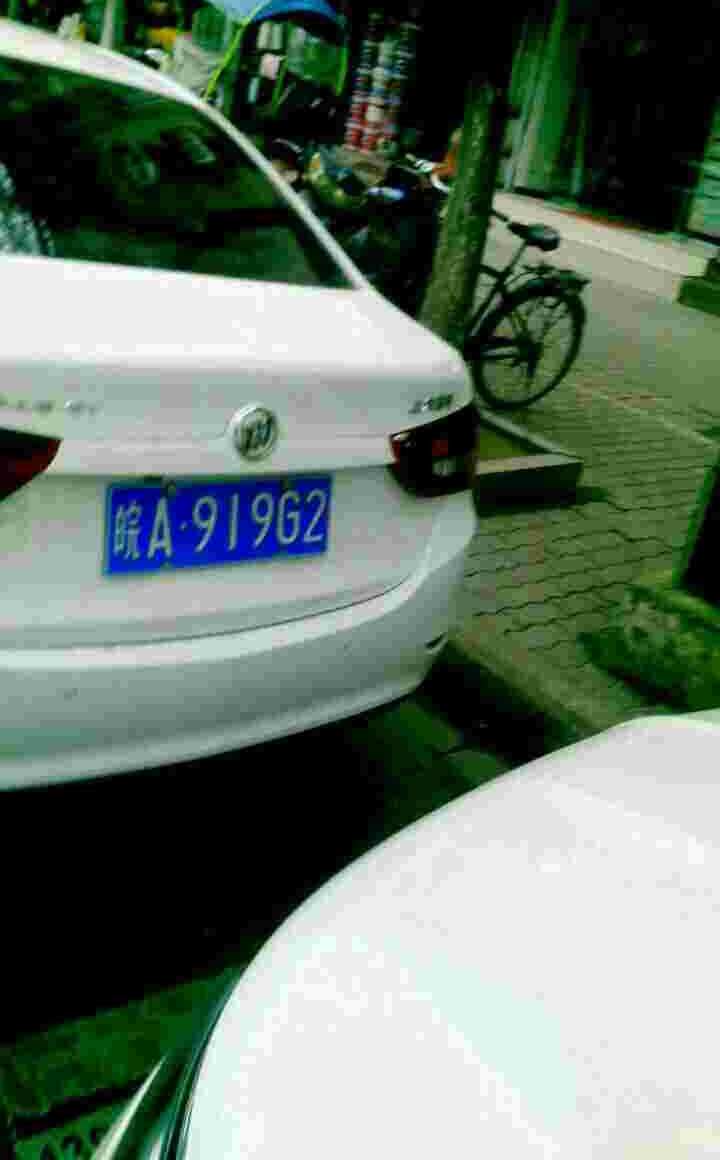license_plate: (104, 475, 347, 579)
